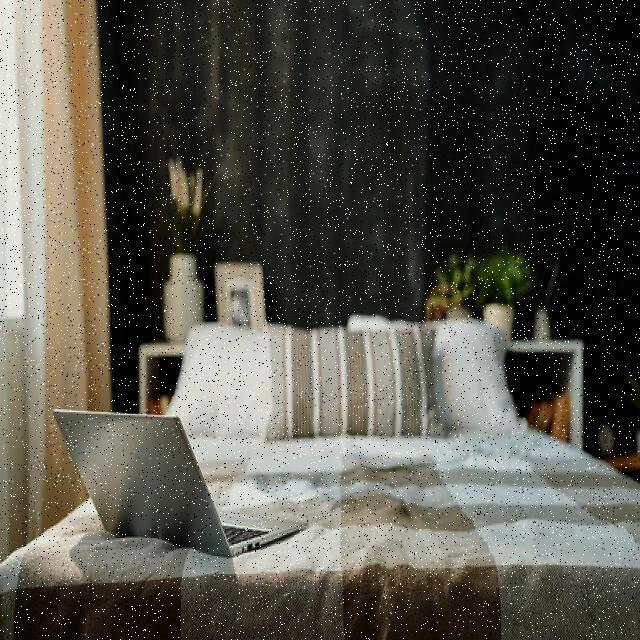bed: (0, 311, 637, 638)
